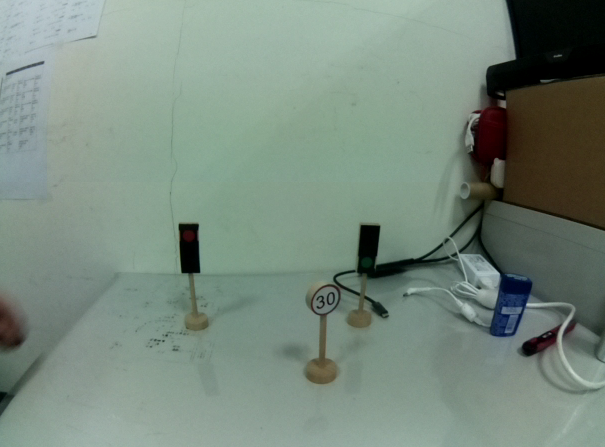Green: (357, 220, 381, 277)
Red: (175, 222, 206, 279)
Speed30: (305, 282, 341, 316)
